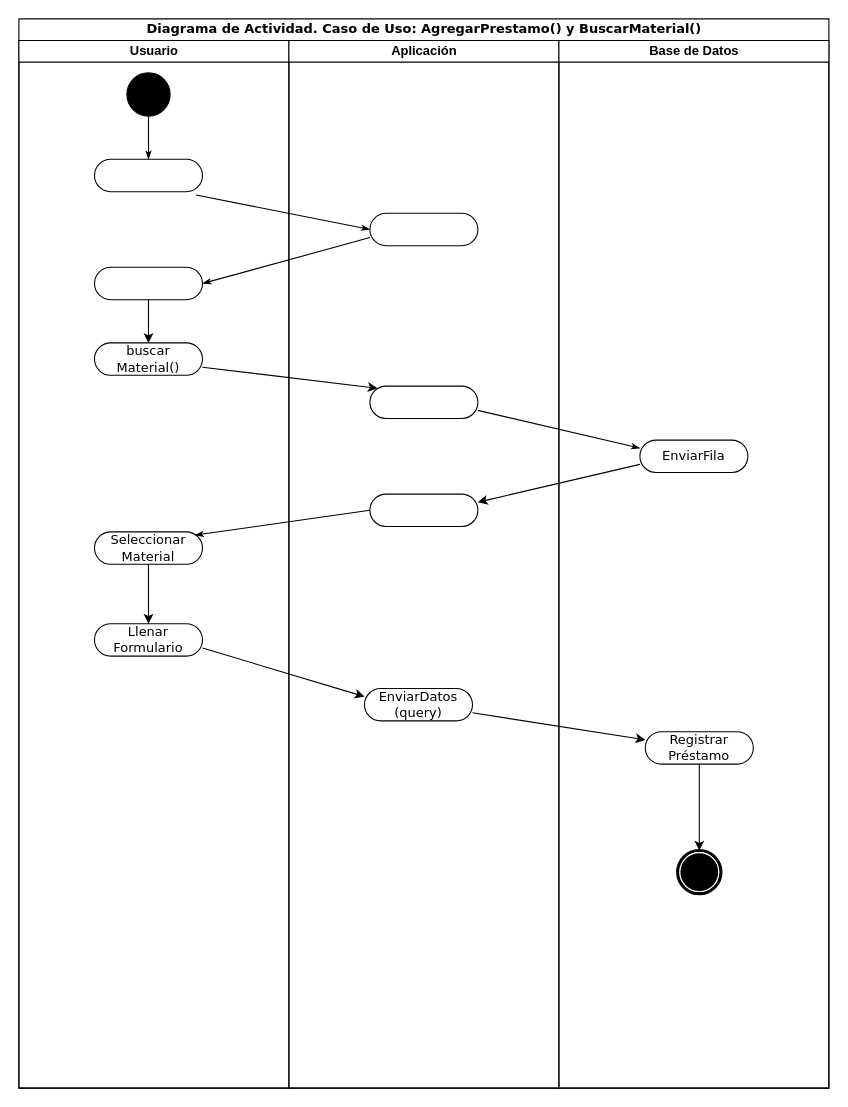
Some shapes in this 848 by 1107 pixel diagram are drawn without their labels. Here are the shapes that lost their labels. From the top down, the box of each, then its label:
(93, 158, 202, 192): Agregar Prestamo()
(369, 212, 478, 246): CargarAgregar UsuarioForm()
(93, 266, 202, 300): EscribirDatos
(369, 385, 478, 418): Enviar Datos (query)
(369, 493, 478, 526): MostrarMaterial
